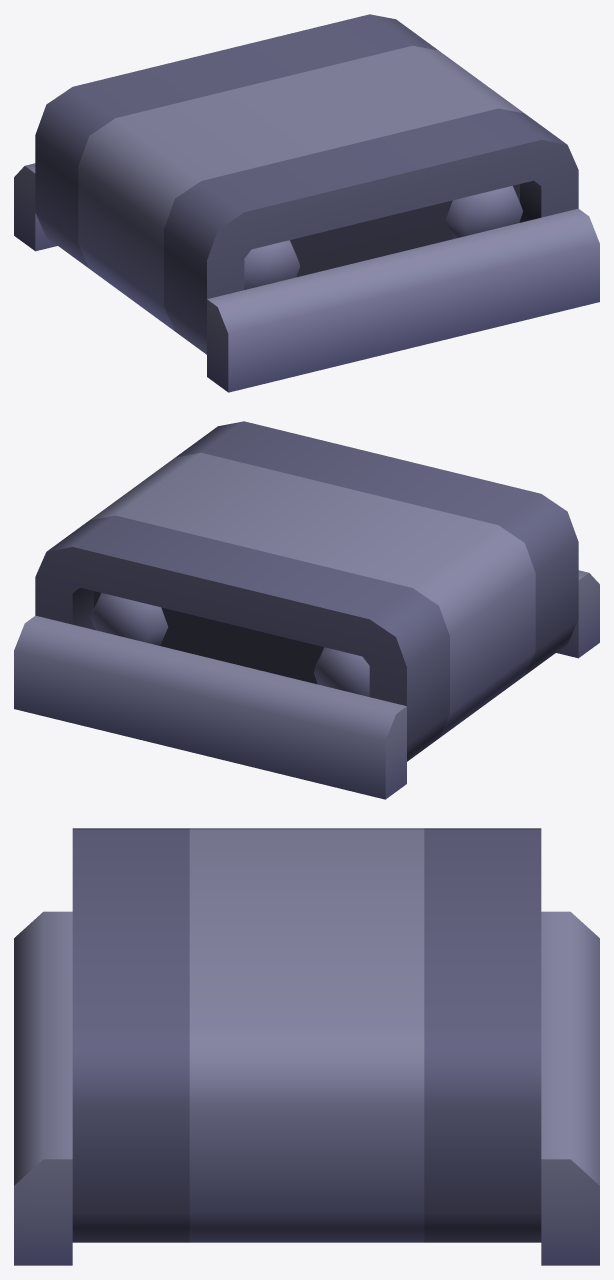
File: conveyor-stripe-sides.glb
3 views of the same model, one above another, from view 1: azimuth 30°, elevation 25°; view 2: azimuth 150°, elevation 25°; view 3: azimuth 270°, elevation 25° (orthographic). The views are drawn at different scales.
Parts seen in each view (by area): view 1: conveyor-stripe-sides; view 2: conveyor-stripe-sides; view 3: conveyor-stripe-sides.
Boxes of the visible parts, x1,y1,x2,y2 form: conveyor-stripe-sides: [14, 14, 599, 392]; conveyor-stripe-sides: [14, 421, 599, 799]; conveyor-stripe-sides: [14, 828, 599, 1265].
Bounding box in the file's own units: 1 × 0.4 × 1.
